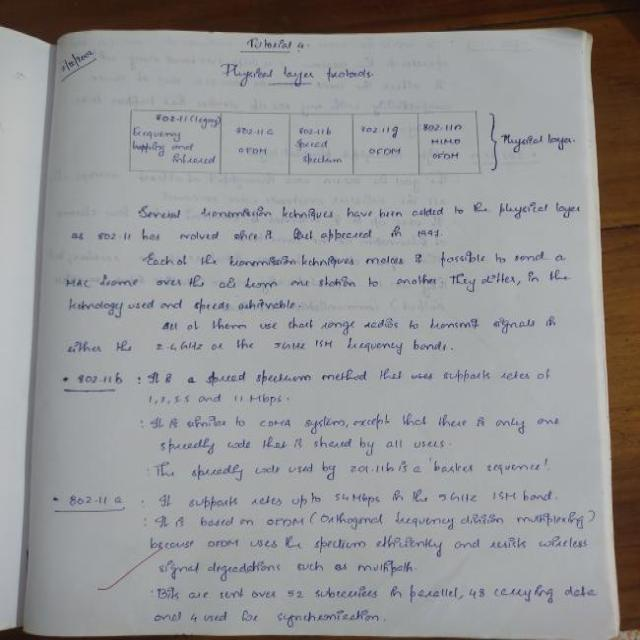Figure Detection - v3 Dataset Version2: (116, 101, 582, 184)
